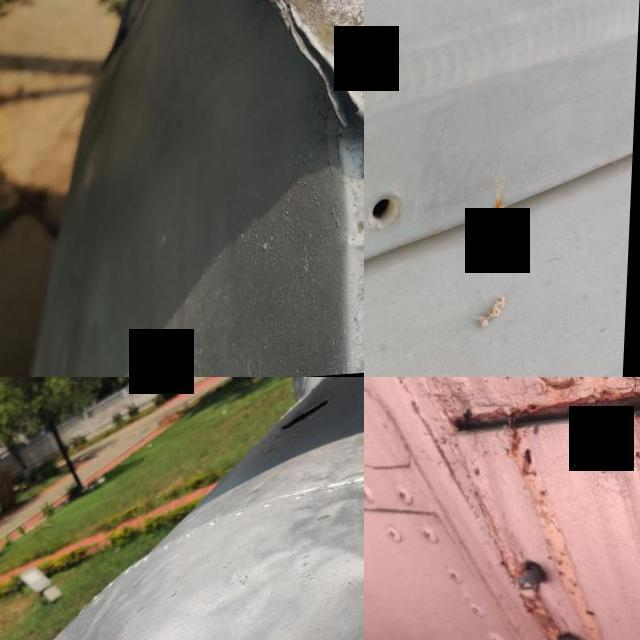Crack: (234, 0, 364, 162)
Dent: (0, 513, 364, 640)
Missing_Fastener: (567, 418, 640, 503), (364, 173, 428, 264)
